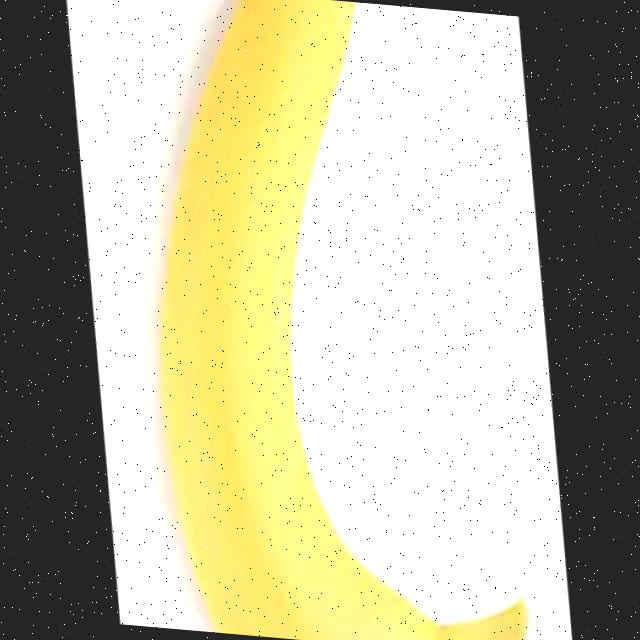banana: (96, 0, 564, 640)
